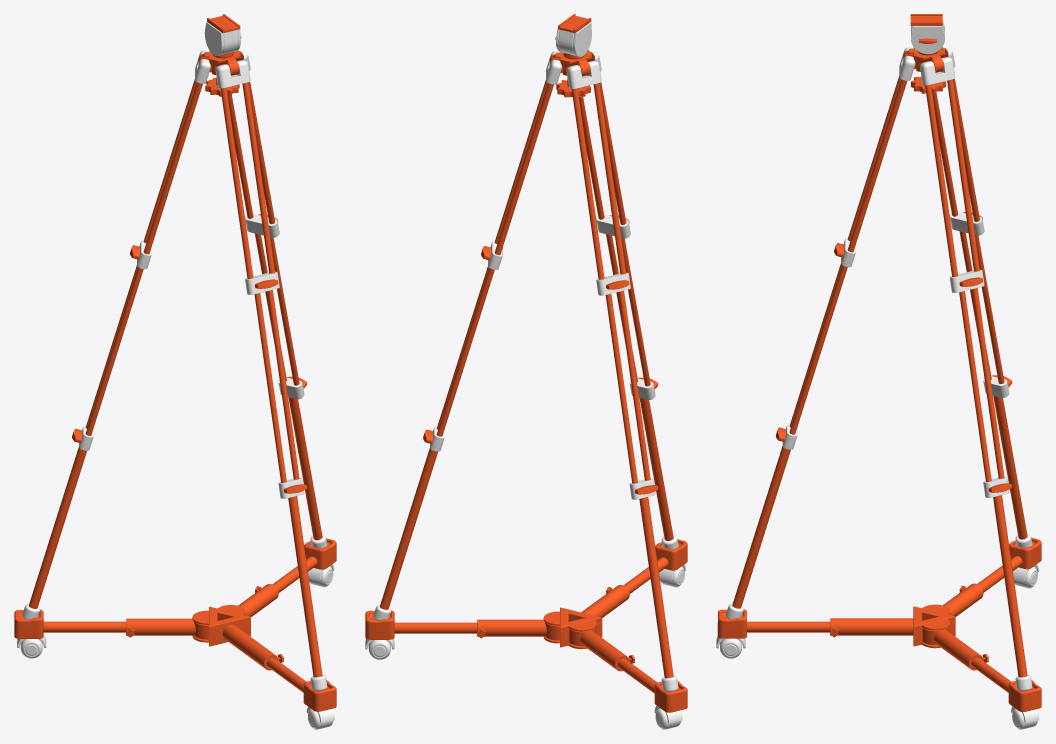
File: Tripod.fbx
3 views of the same model, side by side, from view 1: azimuth 30°, elevation 25°; view 2: azimuth 150°, elevation 25°; view 3: azimuth 270°, elevation 25° (orthographic).
Parts seen in each view (by area): view 1: Circle.004; view 2: Circle.004; view 3: Circle.004.
Part boxes in pixels (bbox=[...]): Circle.004: bbox=[14, 14, 336, 729]; Circle.004: bbox=[365, 14, 687, 729]; Circle.004: bbox=[716, 14, 1041, 729].
Size of the model in its own units: 45.77 by 86.49 by 40.
